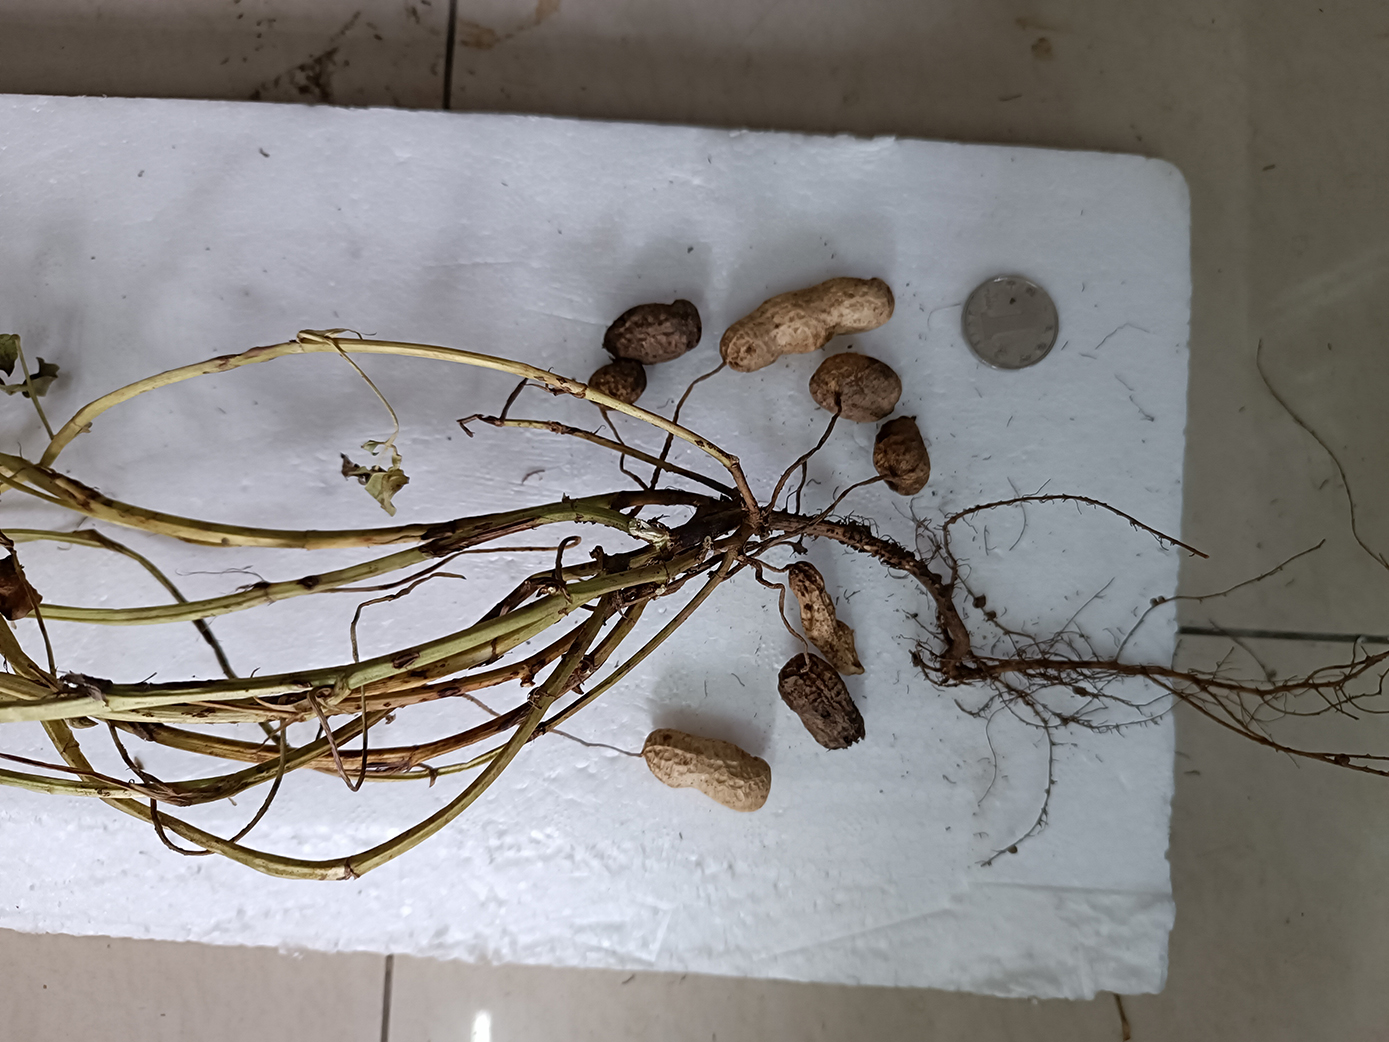h: (718, 278, 894, 369), (644, 730, 769, 814), (789, 561, 866, 678)
l: (779, 652, 865, 752), (604, 300, 703, 364), (809, 354, 900, 421), (875, 418, 929, 495), (589, 361, 648, 404)
